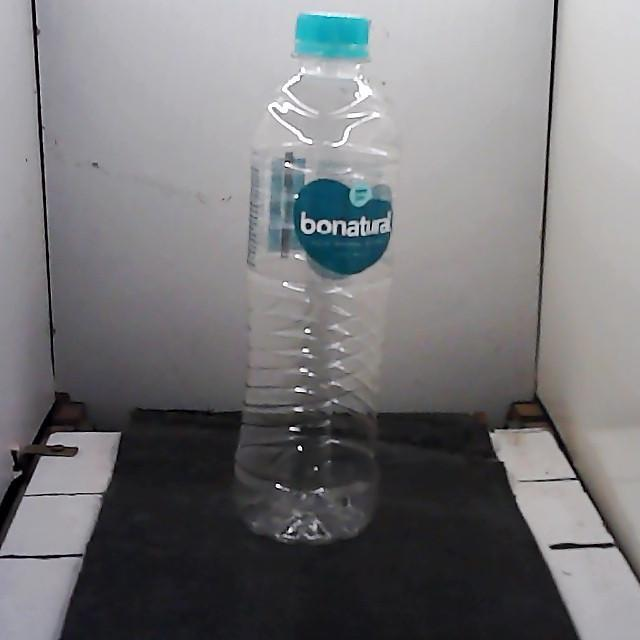plastico: (235, 12, 397, 543)
